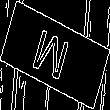M_S: (33, 23, 77, 87)
